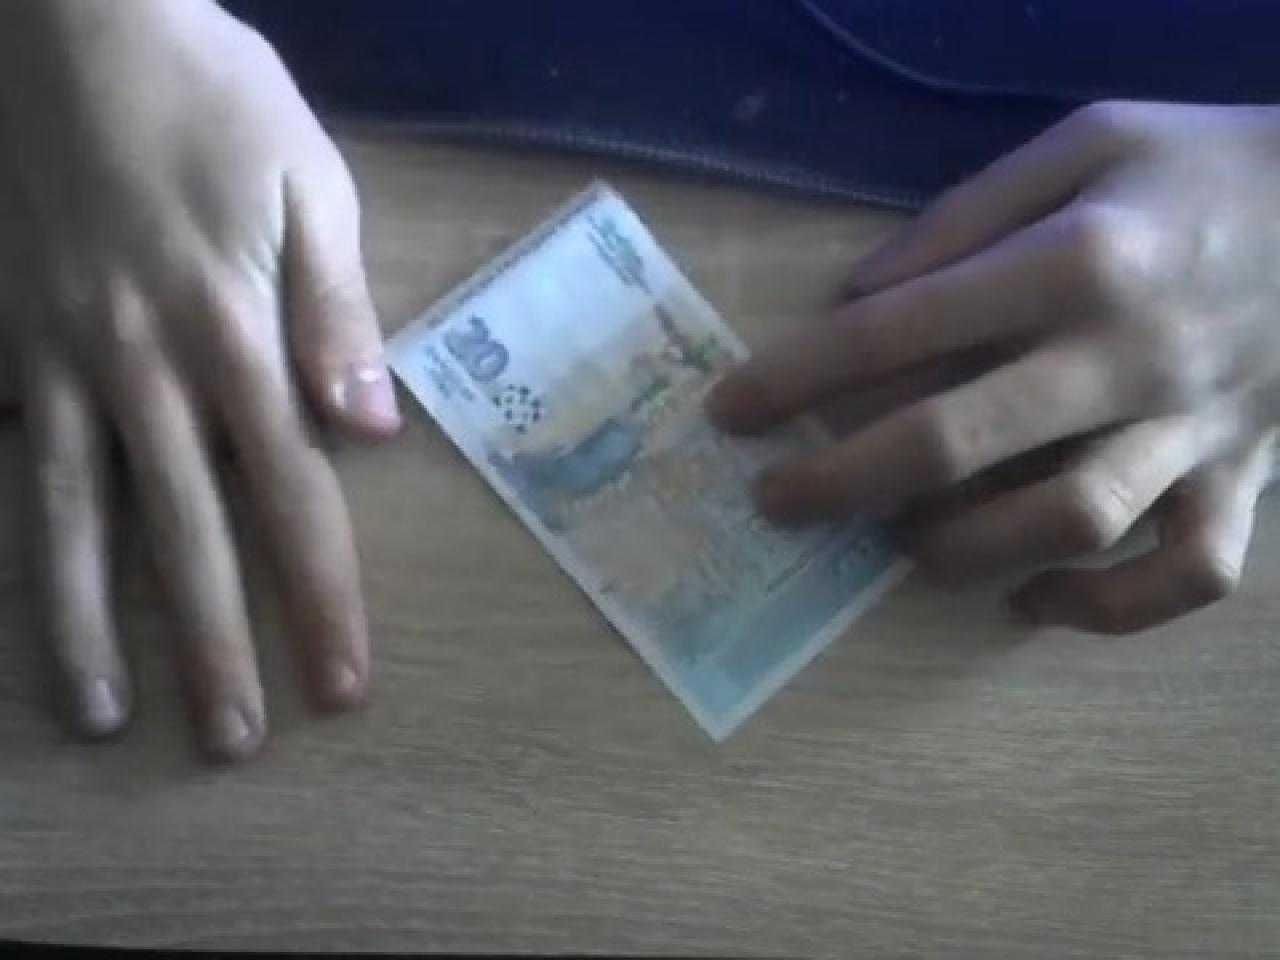20leva: (384, 182, 915, 744)
